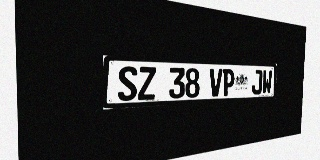3: (169, 67, 185, 99)
8: (185, 68, 200, 98)
J: (252, 70, 262, 95)
P: (222, 69, 235, 96)
S: (118, 66, 137, 101)
V: (209, 69, 222, 97)
W: (262, 70, 272, 94)
Z: (138, 67, 156, 100)
